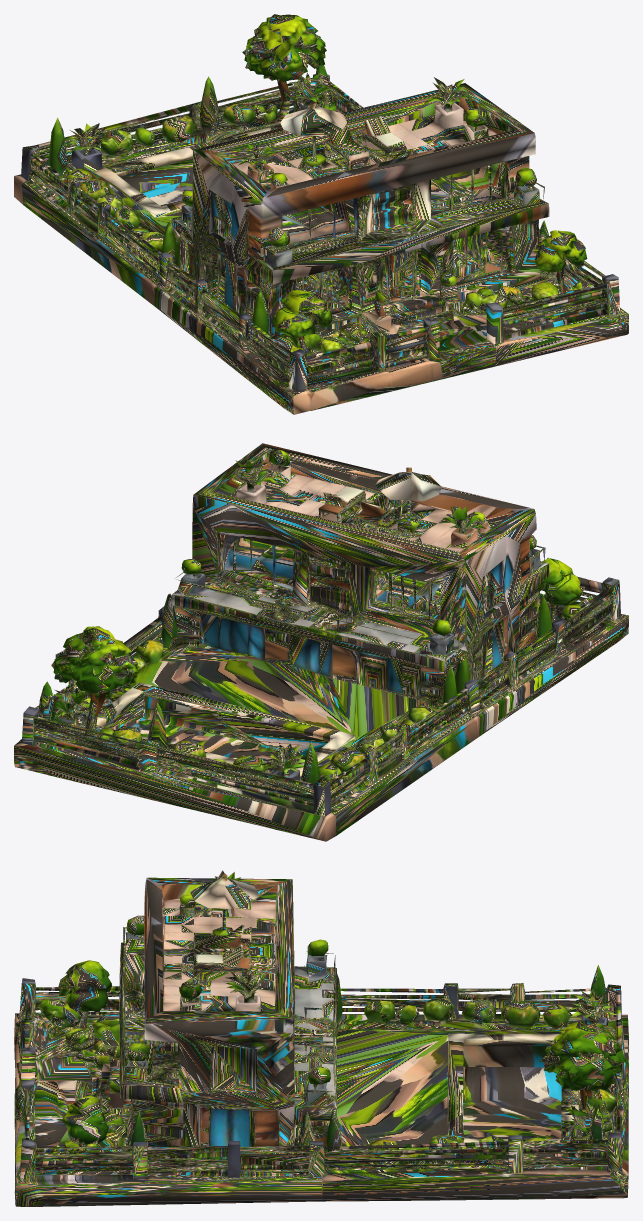
The model's file is house-villa.glb.
3 views of the same model, one above another, from view 1: azimuth 30°, elevation 25°; view 2: azimuth 150°, elevation 25°; view 3: azimuth 270°, elevation 25° (orthographic). The views are drawn at different scales.
Parts seen in each view (by area): view 1: tripo_node_0d053154-227c-4698-a5a1-e08274a45044; view 2: tripo_node_0d053154-227c-4698-a5a1-e08274a45044; view 3: tripo_node_0d053154-227c-4698-a5a1-e08274a45044.
Part boxes in pixels (x1,y1,x2,y2): tripo_node_0d053154-227c-4698-a5a1-e08274a45044: [14, 14, 628, 414]; tripo_node_0d053154-227c-4698-a5a1-e08274a45044: [14, 443, 628, 841]; tripo_node_0d053154-227c-4698-a5a1-e08274a45044: [14, 870, 628, 1206].
Size of the model in its own units: 0.6511 by 0.3901 by 0.9789.
Materials: 1 (1 with a texture image).
